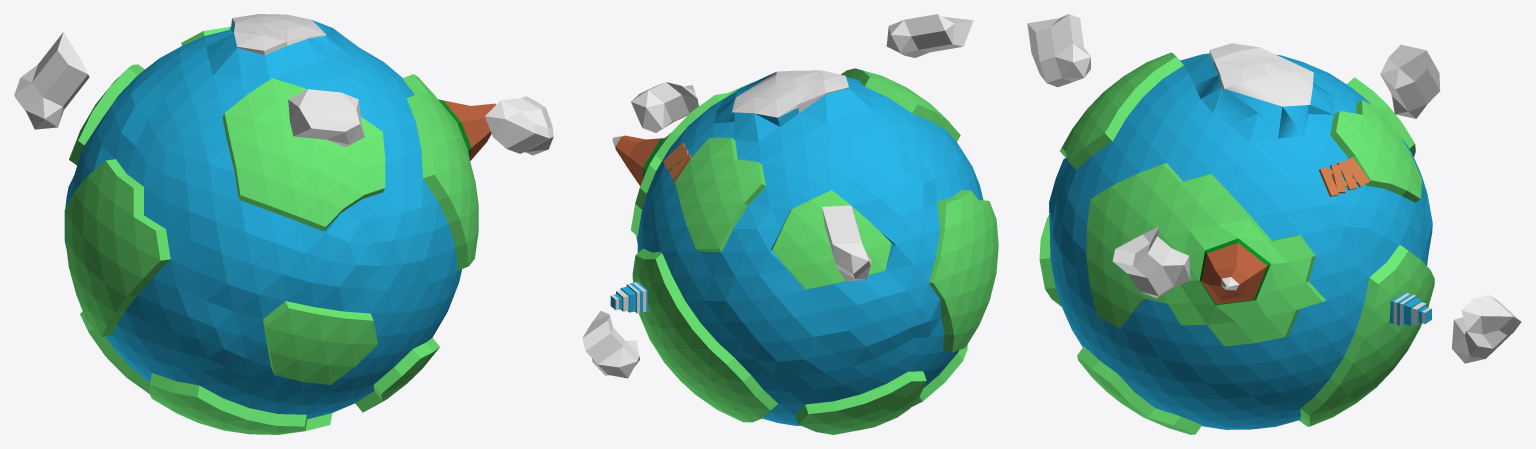
The model's file is earth2.fbx.
The picture shows the model from 3 angles, left to right: view 1: azimuth 30°, elevation 25°; view 2: azimuth 150°, elevation 25°; view 3: azimuth 270°, elevation 25°; orthographic projection. The views are drawn at different scales.
Visible parts, largest first — view 1: Icosphere, Icosphere.004, Icosphere.001, Icosphere.002; view 2: Icosphere, Icosphere.001, Icosphere.004, Icosphere.003, Icosphere.002, Cube.001, Cube; view 3: Icosphere, Icosphere.001, Icosphere.002, Icosphere.004, Icosphere.003, Cube, Cube.001.
Part boxes in pixels (<box>): Icosphere: <box>64,14,496,434</box>; Icosphere.004: <box>14,32,89,129</box>; Icosphere.001: <box>288,89,364,147</box>; Icosphere.002: <box>485,96,553,155</box>; Icosphere: <box>612,68,998,434</box>; Icosphere.001: <box>886,14,973,57</box>; Icosphere.004: <box>822,205,871,281</box>; Icosphere.003: <box>582,311,639,378</box>; Icosphere.002: <box>631,82,699,132</box>; Cube.001: <box>610,281,648,313</box>; Cube: <box>663,142,691,181</box>; Icosphere: <box>1039,43,1434,434</box>; Icosphere.001: <box>1027,14,1090,87</box>; Icosphere.002: <box>1112,226,1190,298</box>; Icosphere.004: <box>1380,44,1440,118</box>; Icosphere.003: <box>1452,295,1521,363</box>; Cube: <box>1319,157,1369,196</box>; Cube.001: <box>1389,292,1431,326</box>.
Size of the model in its own units: 244 by 222 by 260.
